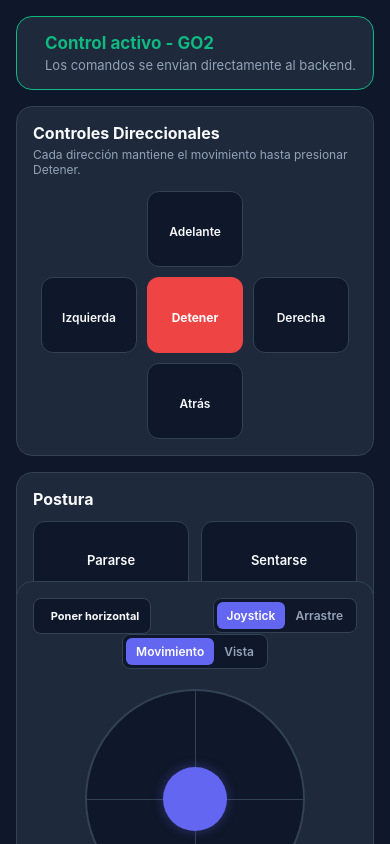
Test: ControlScreen (Control de Movimiento) › debe mostrar dos arrastres y no dos joysticks en layout horizontal manual
Step 1. Click the text "Arrastre" → {"x": 319, "y": 616}, box [295,608,343,623]
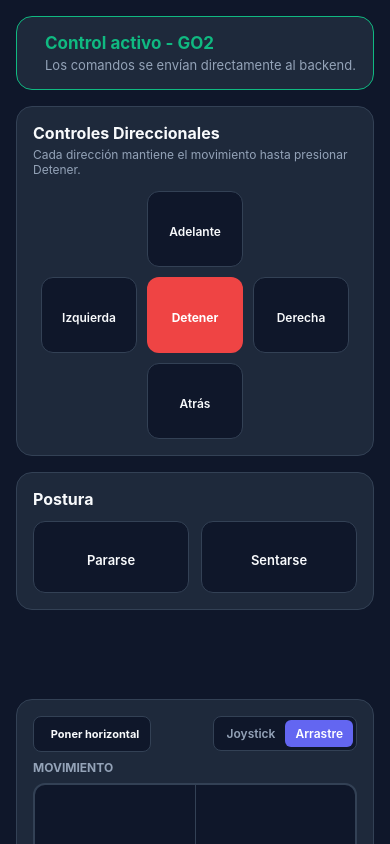
Step 2. Click the element with test id "orientation-toggle" → {"x": 92, "y": 734}, box [33,716,151,752]
(page scrolled)
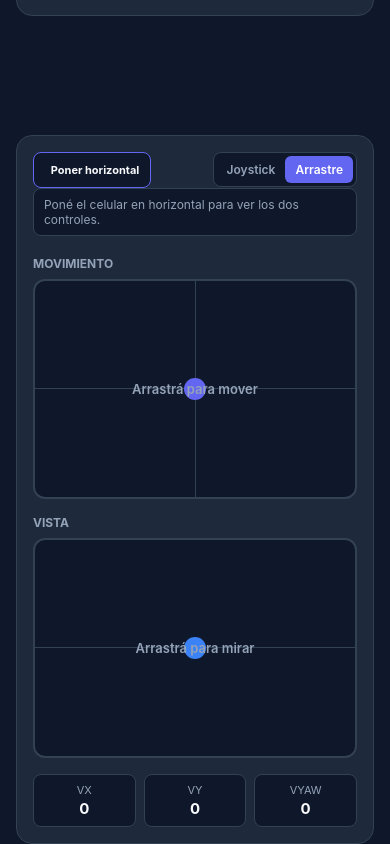
Expected: the element with test id "move-drag-area" is shown, [33,278,357,498]
Expected: the element with test id "yaw-drag-area" is shown, [33,538,357,758]
